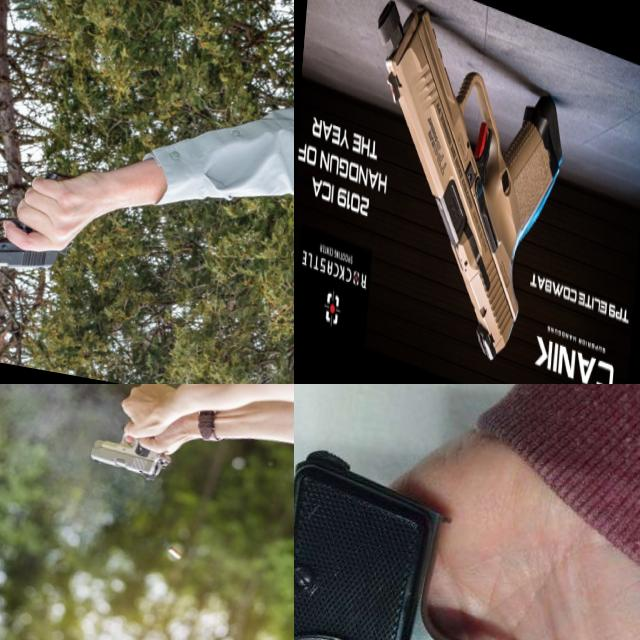handgun: (352, 0, 571, 384), (294, 428, 640, 640), (0, 145, 83, 295), (84, 406, 178, 486)
